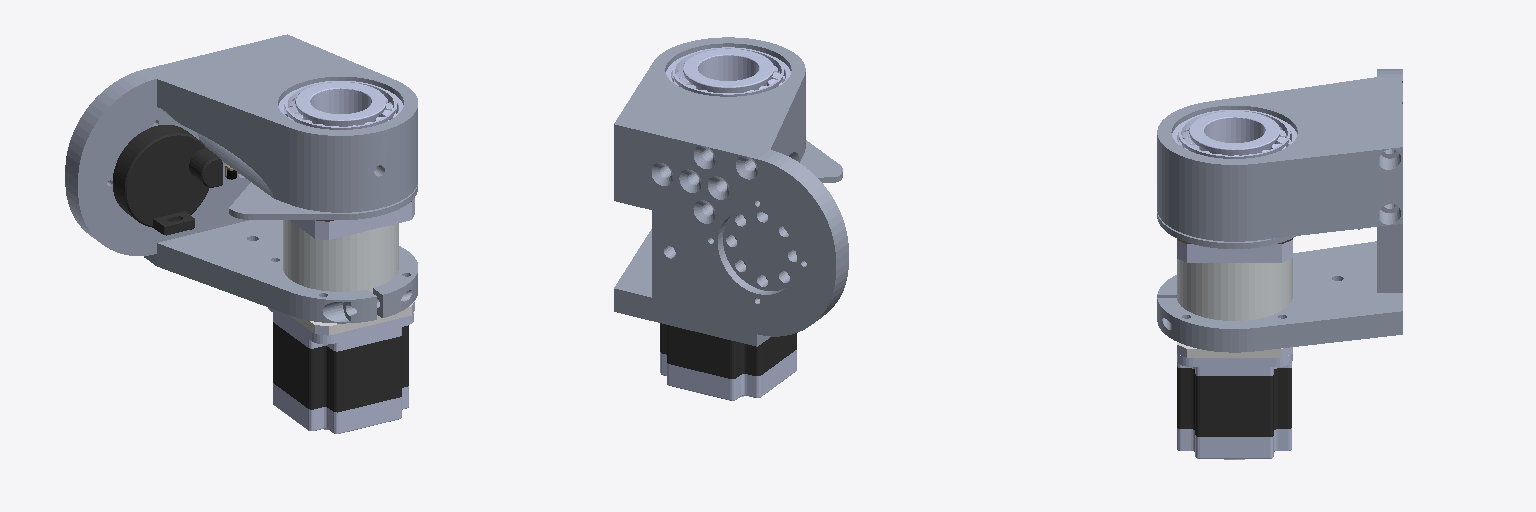
3 renders of one model, left to right at view 1: azimuth 30°, elevation 25°; view 2: azimuth 150°, elevation 25°; view 3: azimuth 270°, elevation 25°, orthographic.
Parts seen in each view (by area): view 1: Body1:7, Body1:8, Body1:6, Body1:1, Body4:2, Body8:2, Body20, Body5:2, Body1:2, Body2:2, Body3:2, Body1:9 (+1 smaller); view 2: Body1:8, Body1:7, Body1:6, Body4:2, Body20, Body5:2, Body1:2, Body19; view 3: Body1:7, Body1:6, Body8:2, Body4:2, Body1:8, Body20, Body5:2, Body2:2, Body1:2, Body1:9, Body19, Body3:2.
Part boxes in pixels (left/top/right/bottom): Body1:7: left=157, top=34, right=417, bottom=212; Body1:8: left=65, top=44, right=261, bottom=255; Body1:6: left=144, top=220, right=417, bottom=323; Body1:1: left=113, top=125, right=222, bottom=235; Body4:2: left=273, top=322, right=408, bottom=412; Body8:2: left=283, top=198, right=414, bottom=292; Body20: left=295, top=82, right=386, bottom=126; Body5:2: left=273, top=383, right=408, bottom=433; Body1:2: left=229, top=182, right=417, bottom=219; Body2:2: left=268, top=308, right=413, bottom=344; Body3:2: left=273, top=313, right=401, bottom=351; Body1:9: left=289, top=301, right=414, bottom=335; Body1:8: left=652, top=124, right=848, bottom=336; Body1:7: left=614, top=37, right=805, bottom=209; Body1:6: left=614, top=229, right=770, bottom=346; Body4:2: left=660, top=323, right=796, bottom=378; Body20: left=683, top=49, right=773, bottom=92; Body5:2: left=660, top=350, right=796, bottom=400; Body1:2: left=800, top=140, right=842, bottom=182; Body19: left=673, top=47, right=783, bottom=96; Body1:7: left=1157, top=77, right=1402, bottom=241; Body1:6: left=1157, top=241, right=1402, bottom=352; Body8:2: left=1177, top=238, right=1292, bottom=320; Body4:2: left=1177, top=367, right=1291, bottom=436; Body1:8: left=1377, top=69, right=1402, bottom=292; Body20: left=1189, top=111, right=1279, bottom=155; Body5:2: left=1177, top=428, right=1291, bottom=458; Body2:2: left=1177, top=354, right=1292, bottom=366; Body1:2: left=1157, top=212, right=1295, bottom=248; Body1:9: left=1177, top=342, right=1292, bottom=357; Body19: left=1179, top=110, right=1290, bottom=158; Body3:2: left=1177, top=362, right=1291, bottom=375.
Size of the model in its own units: 14.66 by 16.95 by 12.06.